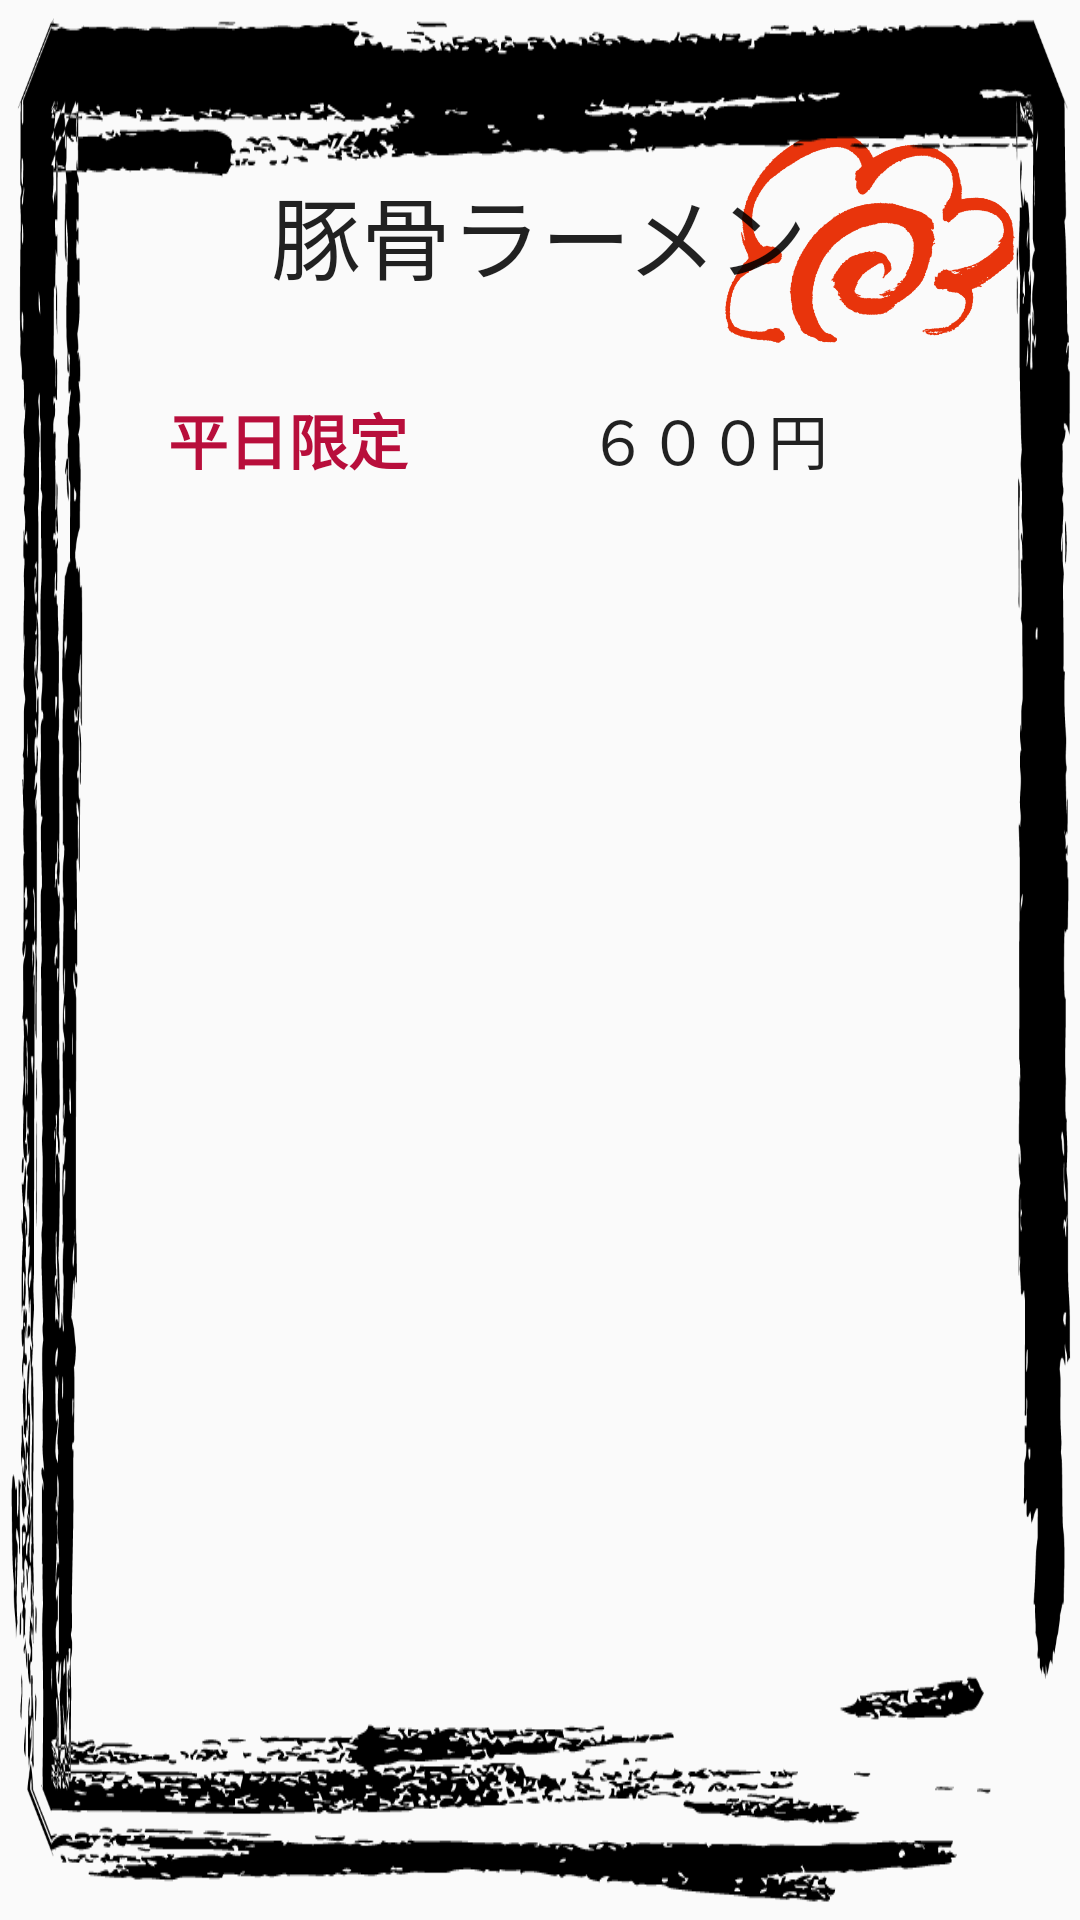

Named icons in this screenshot (1080*1920) and their centers, [x,y]:
hanamaru: [870,240]
